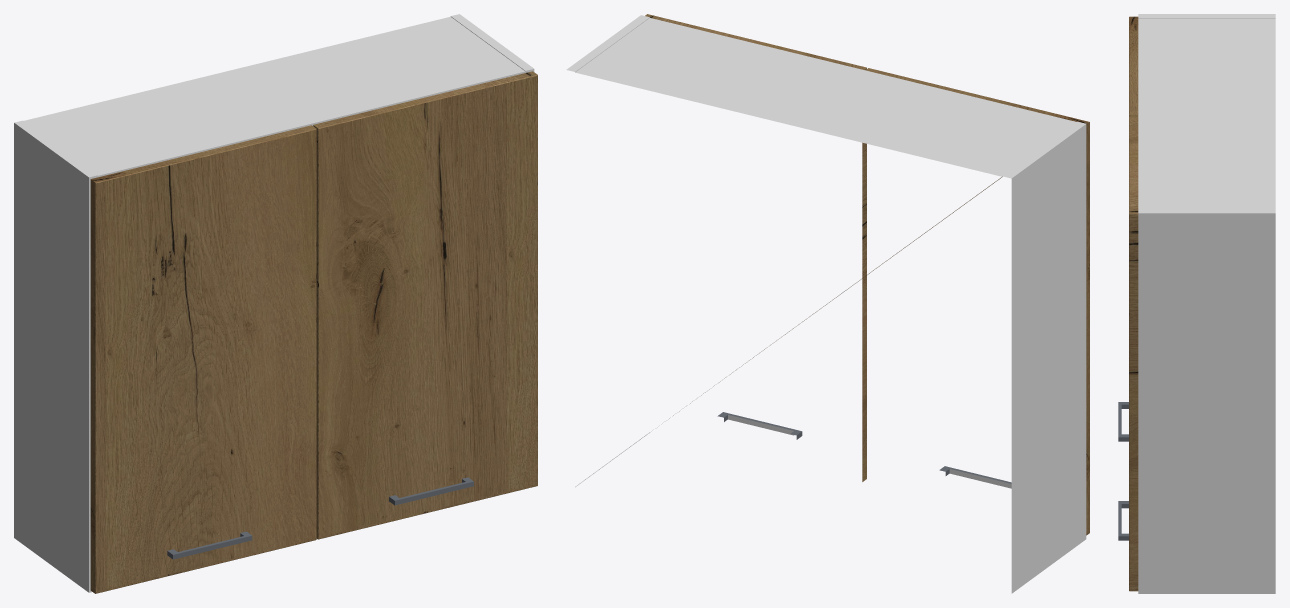
File: gornji_90cm.glb
3 views of the same model, side by side, from view 1: azimuth 30°, elevation 25°; view 2: azimuth 150°, elevation 25°; view 3: azimuth 270°, elevation 25° (orthographic). The views are drawn at different scales.
Parts seen in each view (by area): view 1: Model; view 2: Model; view 3: Model.
Part boxes in pixels (x1,y1,x2,y2): Model: (14, 14, 537, 593); Model: (566, 14, 1089, 593); Model: (1118, 14, 1275, 593).
Size of the model in its own units: 900 by 802 by 300.
Materials: 4 (1 with a texture image).
